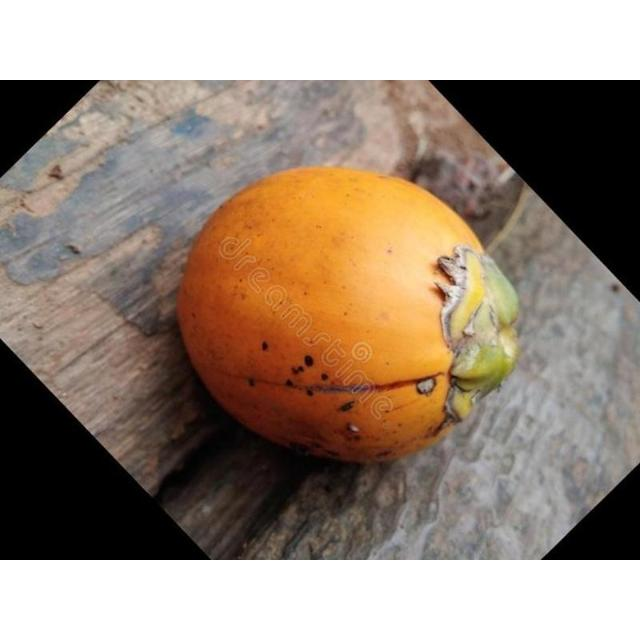good: (175, 166, 522, 466)
